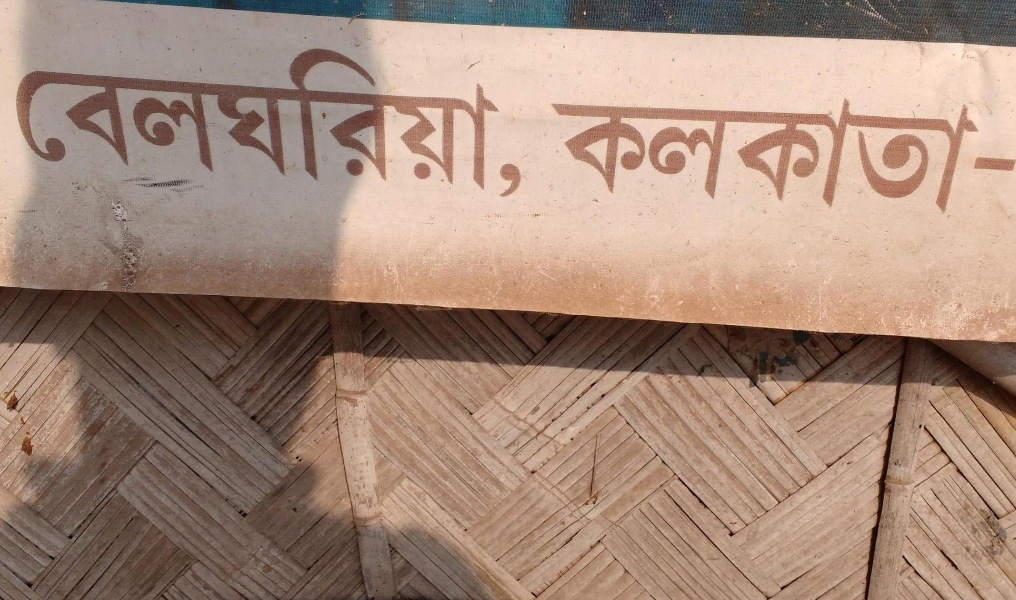text: (33, 36, 48, 206), (49, 36, 64, 206), (65, 36, 80, 206), (81, 36, 96, 206), (97, 36, 112, 206), (113, 36, 128, 206), (129, 36, 144, 206), (145, 36, 160, 206), (161, 36, 176, 206), (177, 36, 192, 206), (193, 36, 208, 206), (209, 36, 224, 206), (225, 36, 240, 206), (241, 36, 256, 206), (257, 36, 272, 206), (273, 36, 288, 206), (289, 36, 304, 206), (305, 36, 320, 206), (321, 36, 336, 206), (337, 36, 352, 206), (353, 36, 368, 206), (369, 36, 384, 206), (385, 36, 400, 206), (401, 36, 416, 206), (417, 36, 432, 206), (433, 36, 448, 206), (449, 36, 464, 206), (465, 36, 480, 206), (481, 36, 496, 206), (497, 36, 512, 206), (513, 36, 528, 206), (545, 84, 560, 221), (561, 84, 576, 221), (577, 84, 592, 221), (593, 84, 608, 221), (609, 84, 624, 221), (625, 84, 640, 221), (641, 84, 656, 221), (657, 84, 672, 221), (673, 84, 688, 221), (689, 84, 704, 221), (705, 84, 720, 221), (721, 84, 736, 221), (737, 84, 752, 221), (753, 84, 768, 221), (769, 84, 784, 221), (785, 84, 800, 221), (801, 84, 816, 221), (817, 84, 832, 221), (833, 84, 848, 221), (849, 84, 864, 221), (865, 84, 880, 221), (881, 84, 896, 221), (897, 84, 912, 221), (913, 84, 928, 221), (929, 84, 944, 221), (945, 84, 960, 221), (961, 84, 976, 221), (977, 84, 992, 221), (993, 84, 1008, 221), (20, 36, 32, 206), (1009, 84, 1015, 221), (529, 36, 531, 206)
